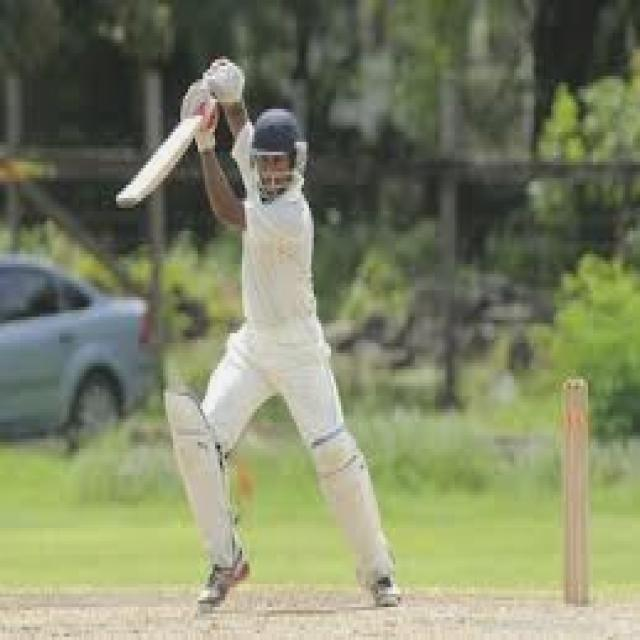bat: (105, 116, 205, 224)
toe: (110, 194, 137, 209)
